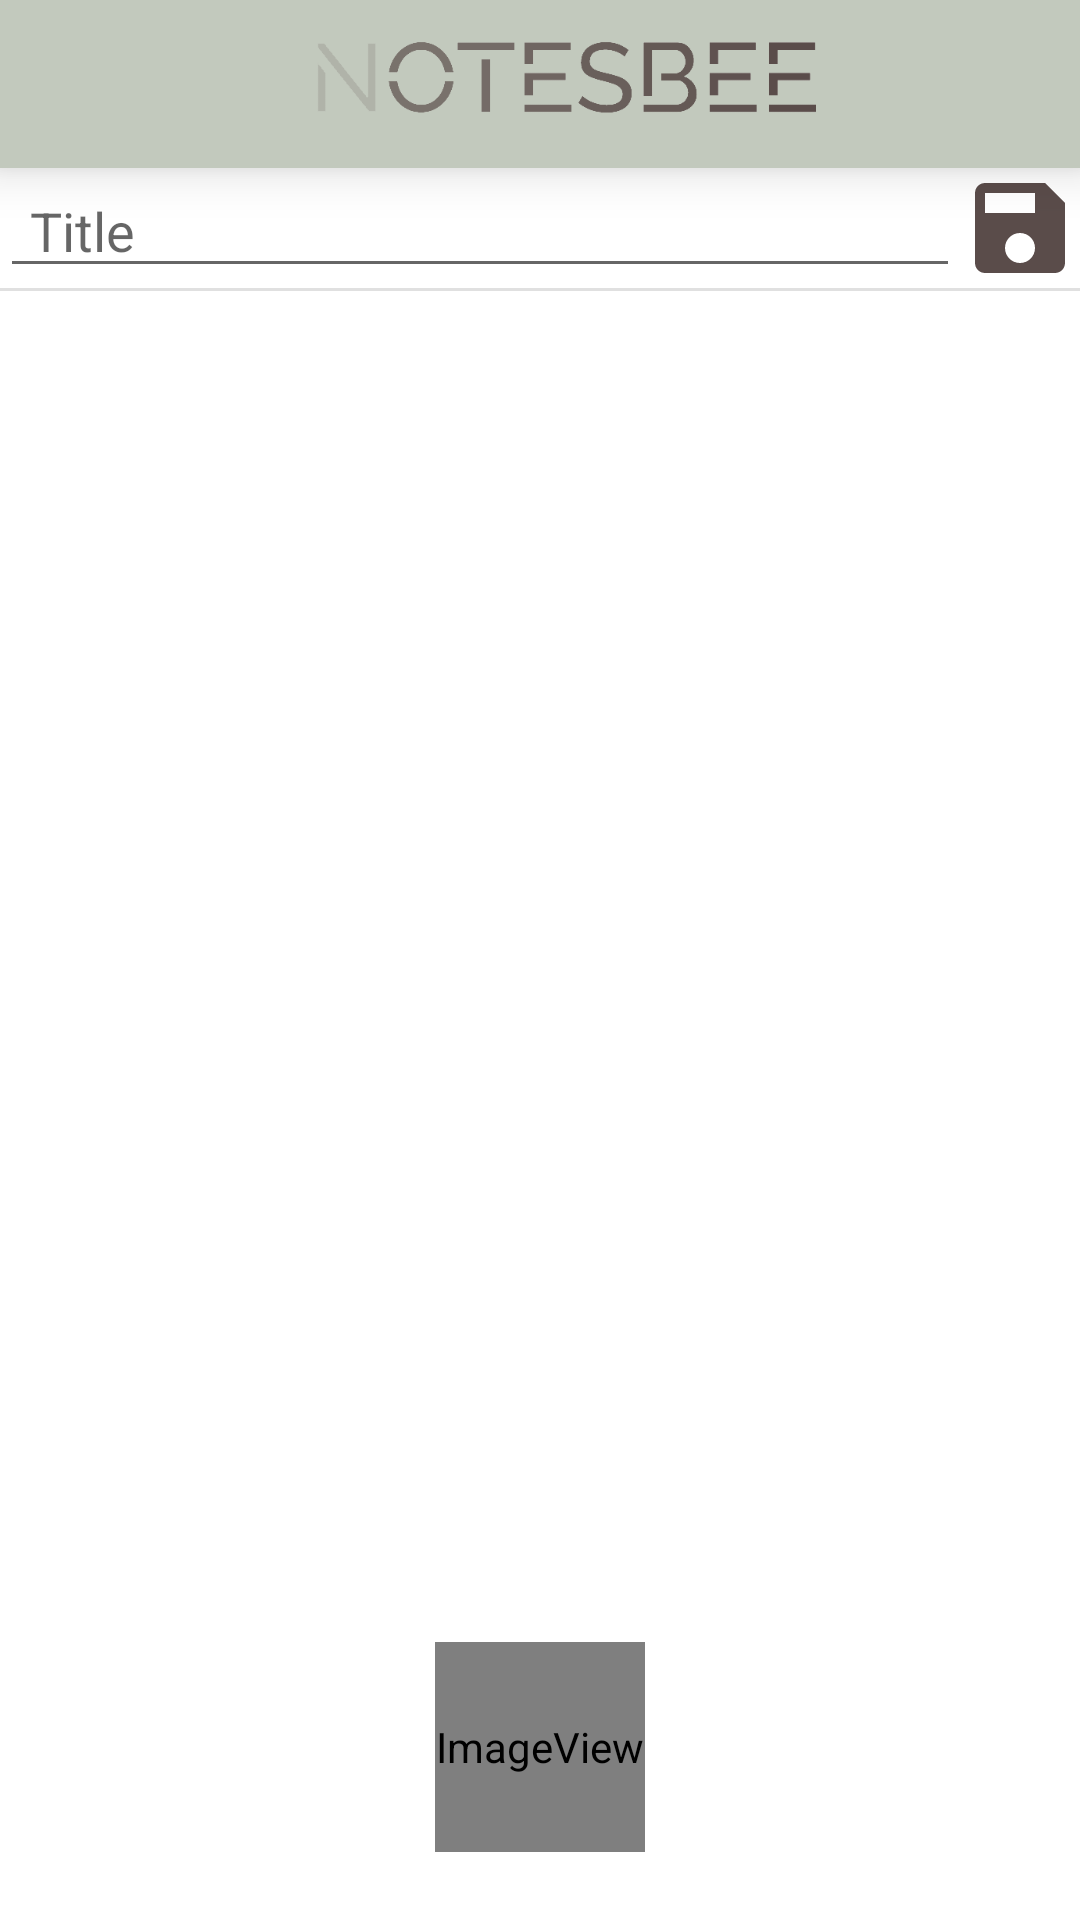

Screen size 1080 × 1920. Icon name, then its center in pixels as (x=x, y=y):
save: (x=1020, y=228)
